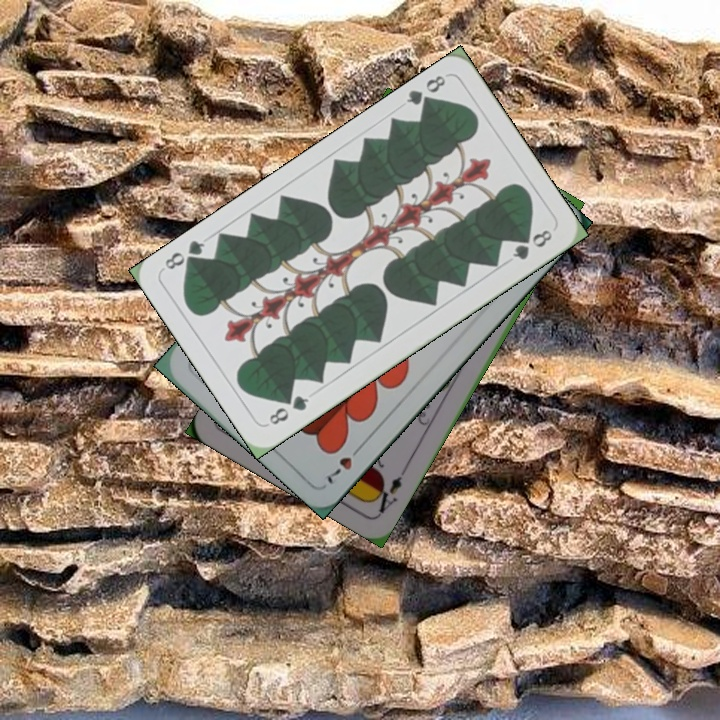EA: (368, 463, 410, 516)
G8: (402, 71, 449, 113), (264, 391, 312, 428)
H7: (320, 440, 366, 487)
